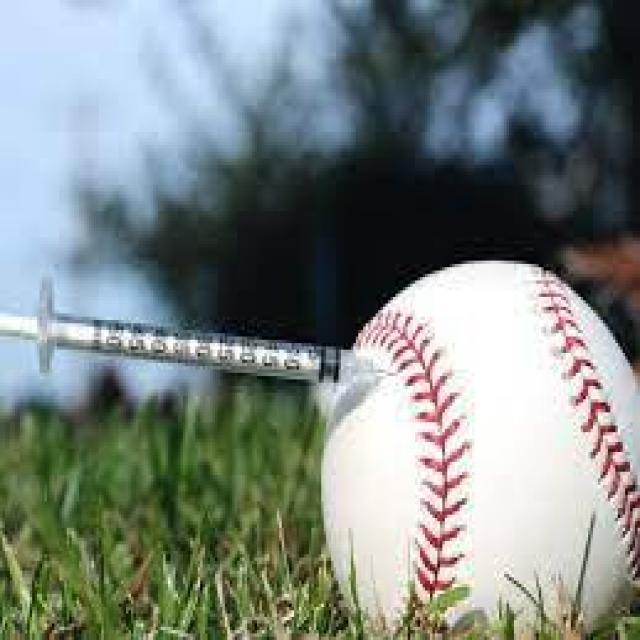baseball: (320, 262, 624, 625)
